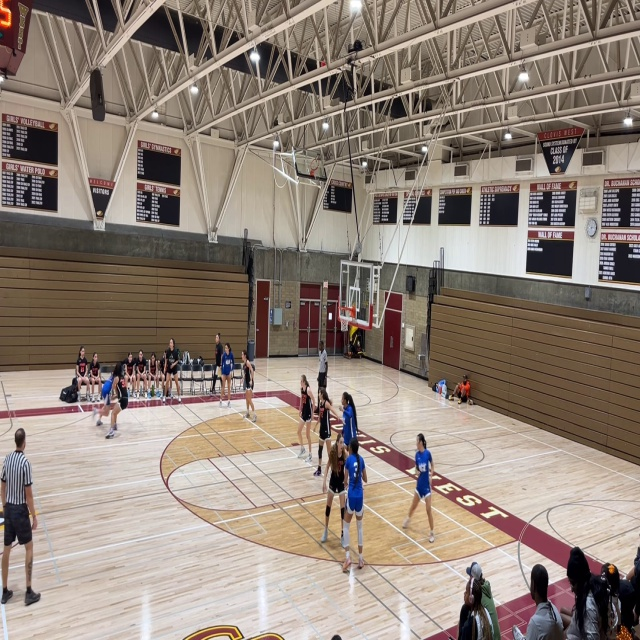Basketball: (607, 565, 615, 574)
